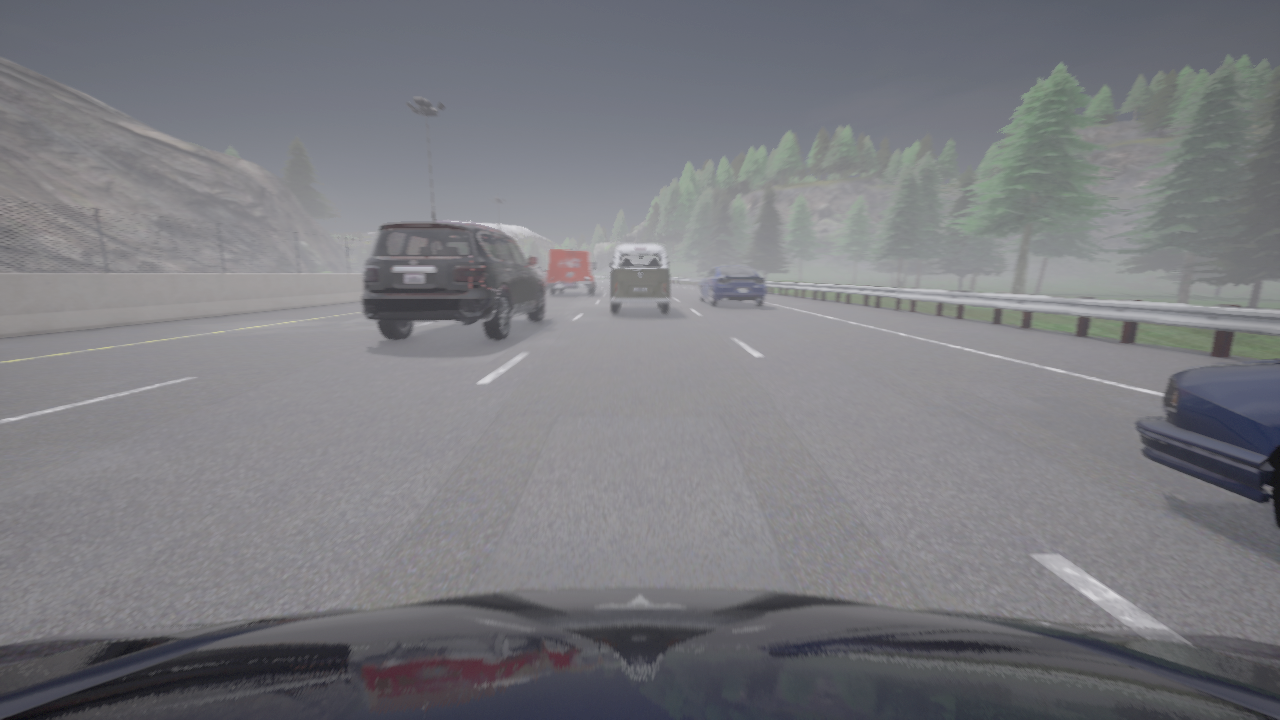cyclist: (0, 588, 1279, 719), (1133, 359, 1279, 531), (362, 222, 544, 340), (609, 244, 670, 313), (698, 265, 765, 306), (547, 250, 595, 294), (533, 268, 546, 288)
